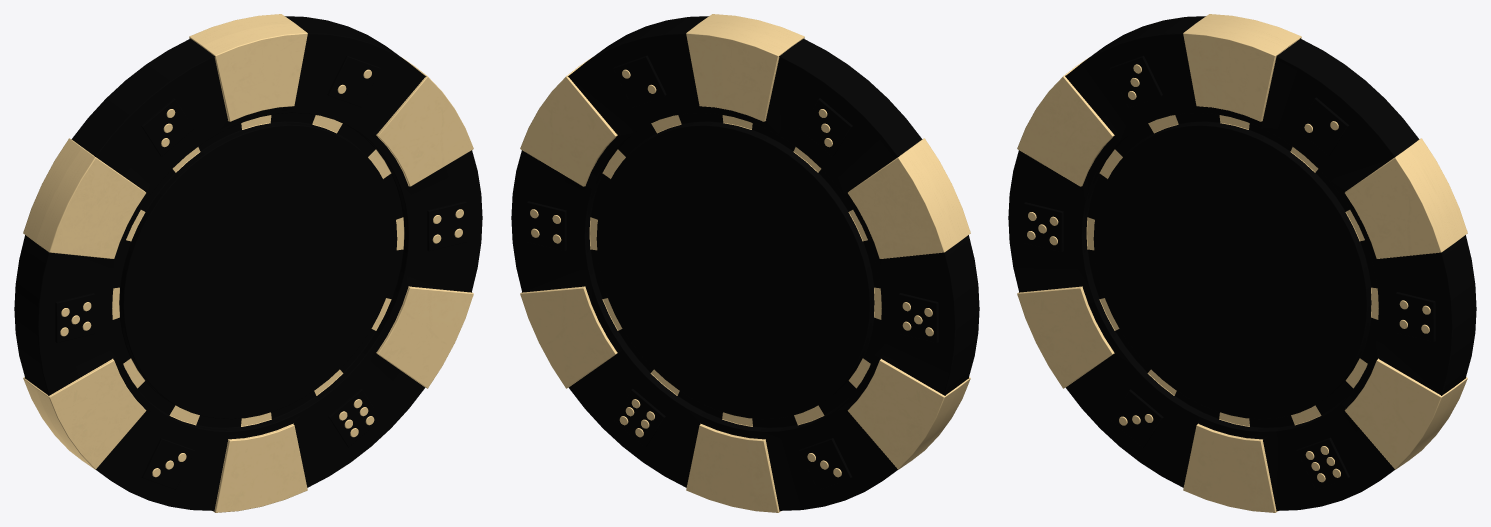
File: chip.fbx
The picture shows the model from 3 angles, left to right: view 1: azimuth 30°, elevation 25°; view 2: azimuth 150°, elevation 25°; view 3: azimuth 330°, elevation 25°; orthographic projection.
Visible parts, largest first — view 1: chip; view 2: chip; view 3: chip.
Boxes of the visible parts, bbox=[...] form: chip: bbox=[14, 14, 482, 512]; chip: bbox=[511, 14, 979, 512]; chip: bbox=[1008, 14, 1476, 512].
Bounding box in the file's own units: 6 × 6.04 × 0.655.
Materials: 2 (1 with a texture image).
